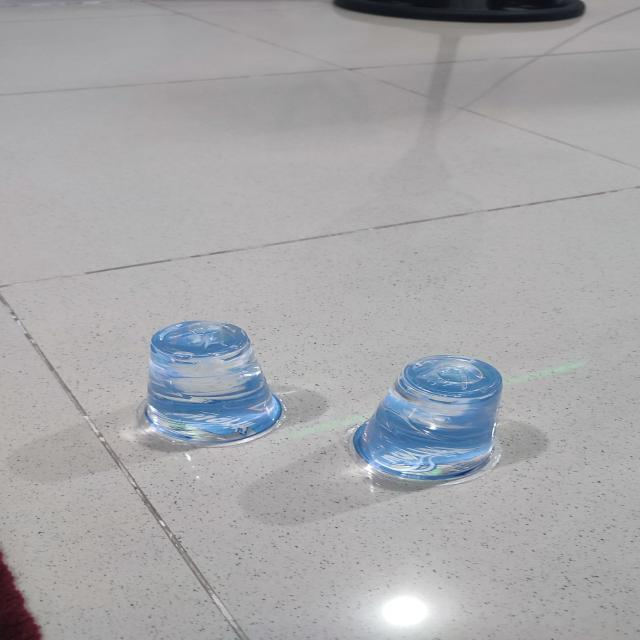air gelas: (338, 350, 518, 485), (131, 313, 296, 455)
